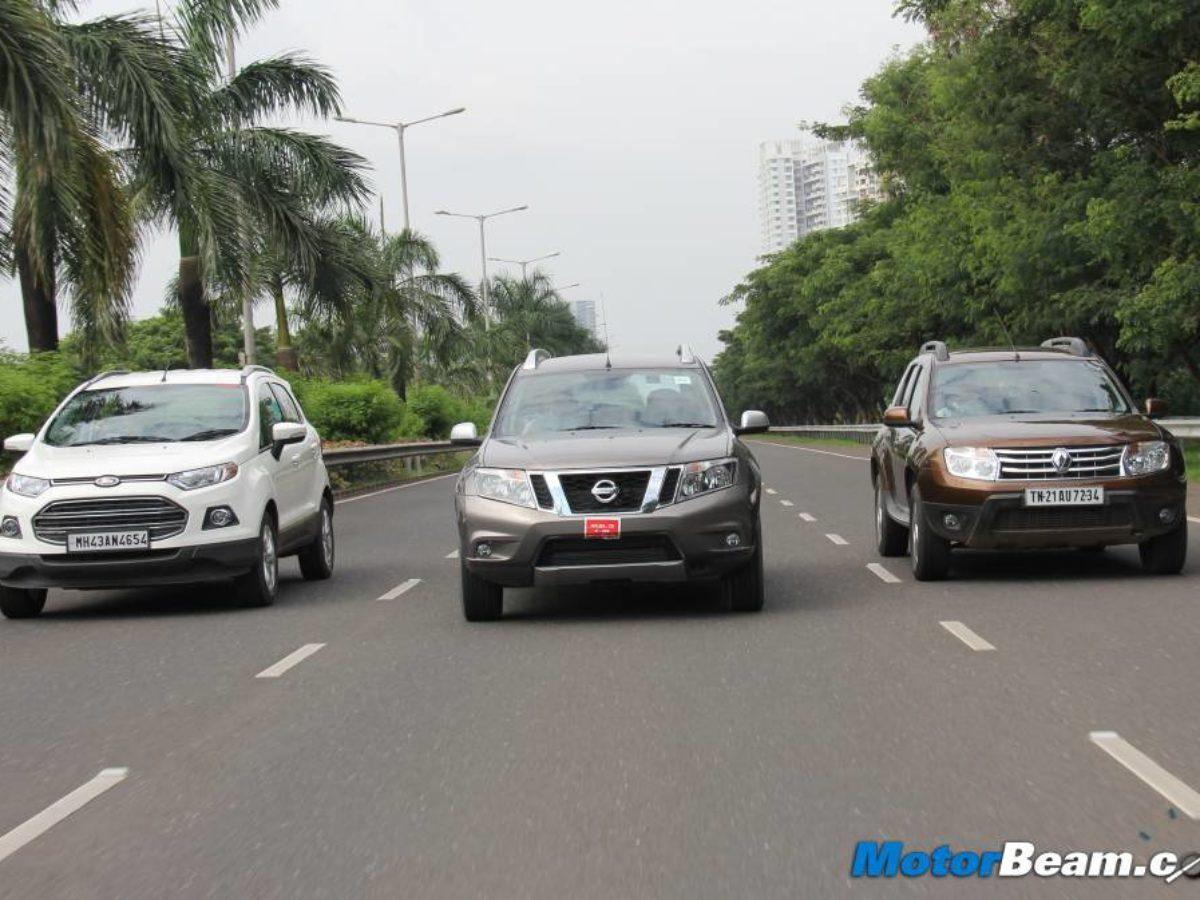car: (0, 287, 352, 656), (441, 317, 802, 645), (868, 293, 1200, 611)
